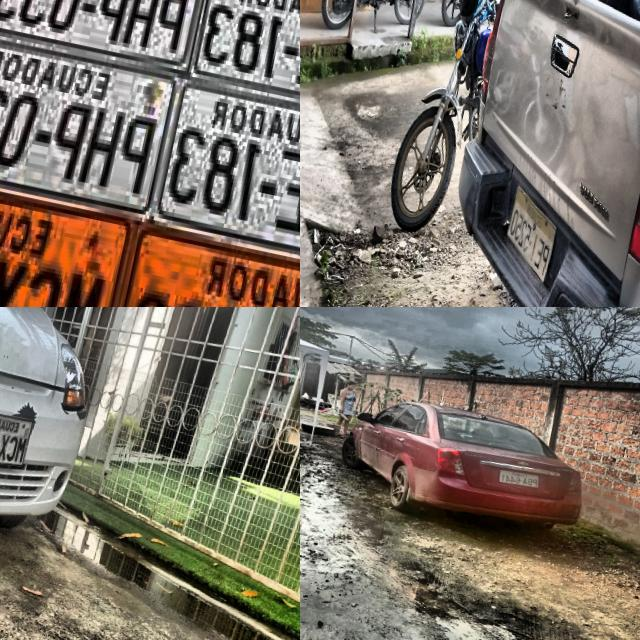license_plate: (121, 214, 300, 307), (505, 182, 558, 288), (0, 412, 35, 469), (497, 468, 539, 488)
